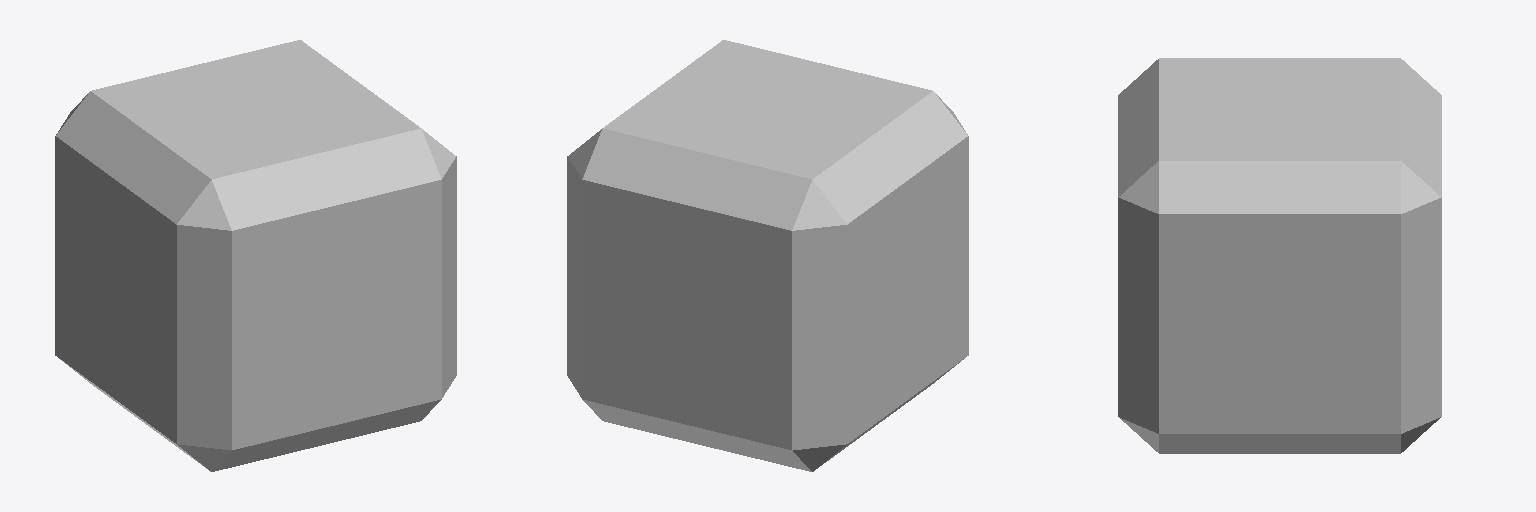
File: octo.obj
The picture shows the model from 3 angles: view 1: azimuth 30°, elevation 25°; view 2: azimuth 150°, elevation 25°; view 3: azimuth 270°, elevation 25°; orthographic projection.
Visible parts, largest first — view 1: block_rounded_8; view 2: block_rounded_8; view 3: block_rounded_8.
Part boxes in pixels (x1,y1,x2,y2): block_rounded_8: (55, 40, 456, 471); block_rounded_8: (567, 40, 968, 471); block_rounded_8: (1118, 58, 1441, 453).
Bounding box in the file's own units: 1 × 1 × 1.